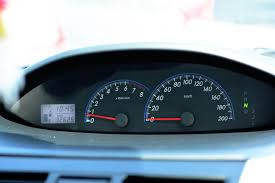Digital_Meter: (40, 103, 75, 122)
